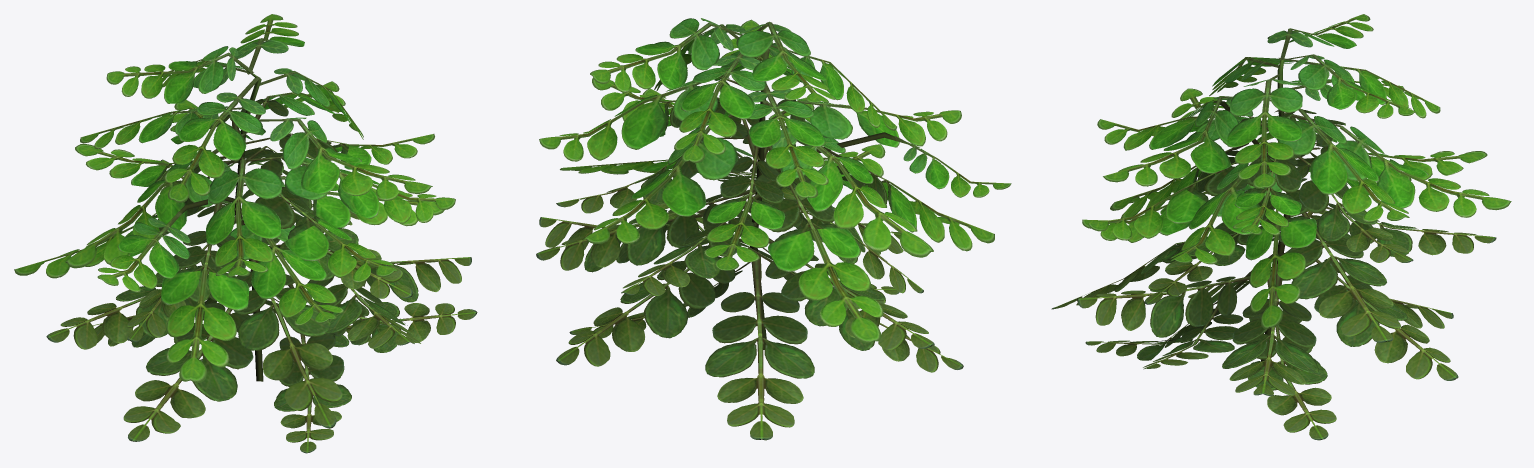
The model's file is wm_灌木花木兰01.fbx.
3 views of the same model, side by side, from view 1: azimuth 30°, elevation 25°; view 2: azimuth 150°, elevation 25°; view 3: azimuth 270°, elevation 25° (orthographic). The views are drawn at different scales.
Visible parts, largest first — view 1: wm_灌木花木兰01; view 2: wm_灌木花木兰01; view 3: wm_灌木花木兰01.
Part boxes in pixels (left/top/right/bottom): wm_灌木花木兰01: left=14, top=14, right=477, bottom=453; wm_灌木花木兰01: left=536, top=18, right=1011, bottom=440; wm_灌木花木兰01: left=1051, top=14, right=1511, bottom=440.
Size of the model in its own units: 264 by 204 by 261.
